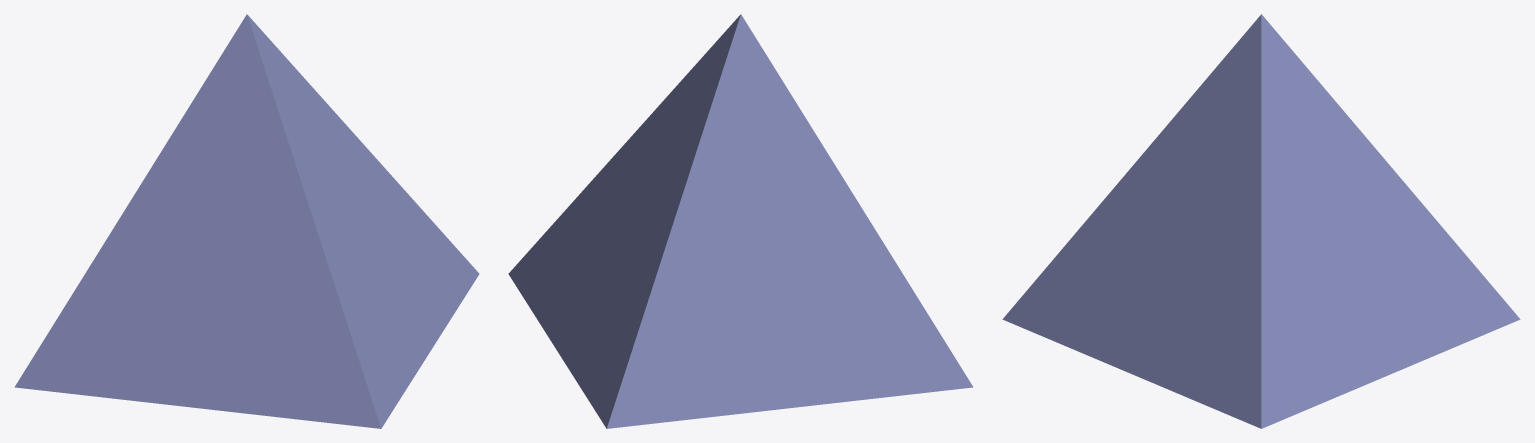
3 views of the same model, side by side, from view 1: azimuth 30°, elevation 25°; view 2: azimuth 150°, elevation 25°; view 3: azimuth 270°, elevation 25° (orthographic). The views are drawn at different scales.
Visible parts, largest first — view 1: Cone.004; view 2: Cone.004; view 3: Cone.004.
Part boxes in pixels (x1,y1,x2,y2): Cone.004: (15, 14, 479, 428); Cone.004: (508, 14, 972, 428); Cone.004: (1002, 14, 1520, 428).
Size of the model in its own units: 6 by 3.9 by 6.
